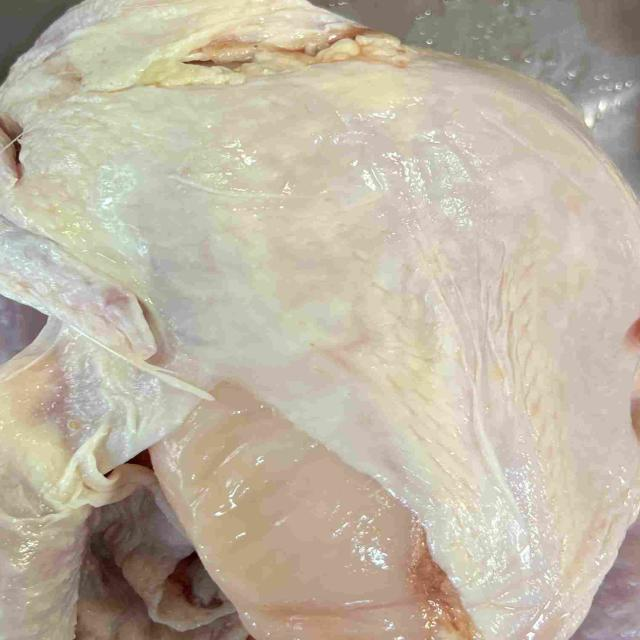breast: (65, 67, 640, 640)
leg: (0, 358, 116, 640)
wing: (0, 131, 162, 365)
